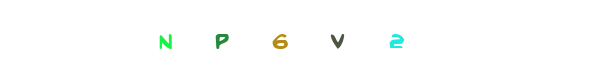2: (347, 0, 427, 80)
6: (241, 0, 321, 80)
N: (126, 0, 206, 80)
P: (231, 0, 311, 80)
V: (262, 0, 342, 80)
